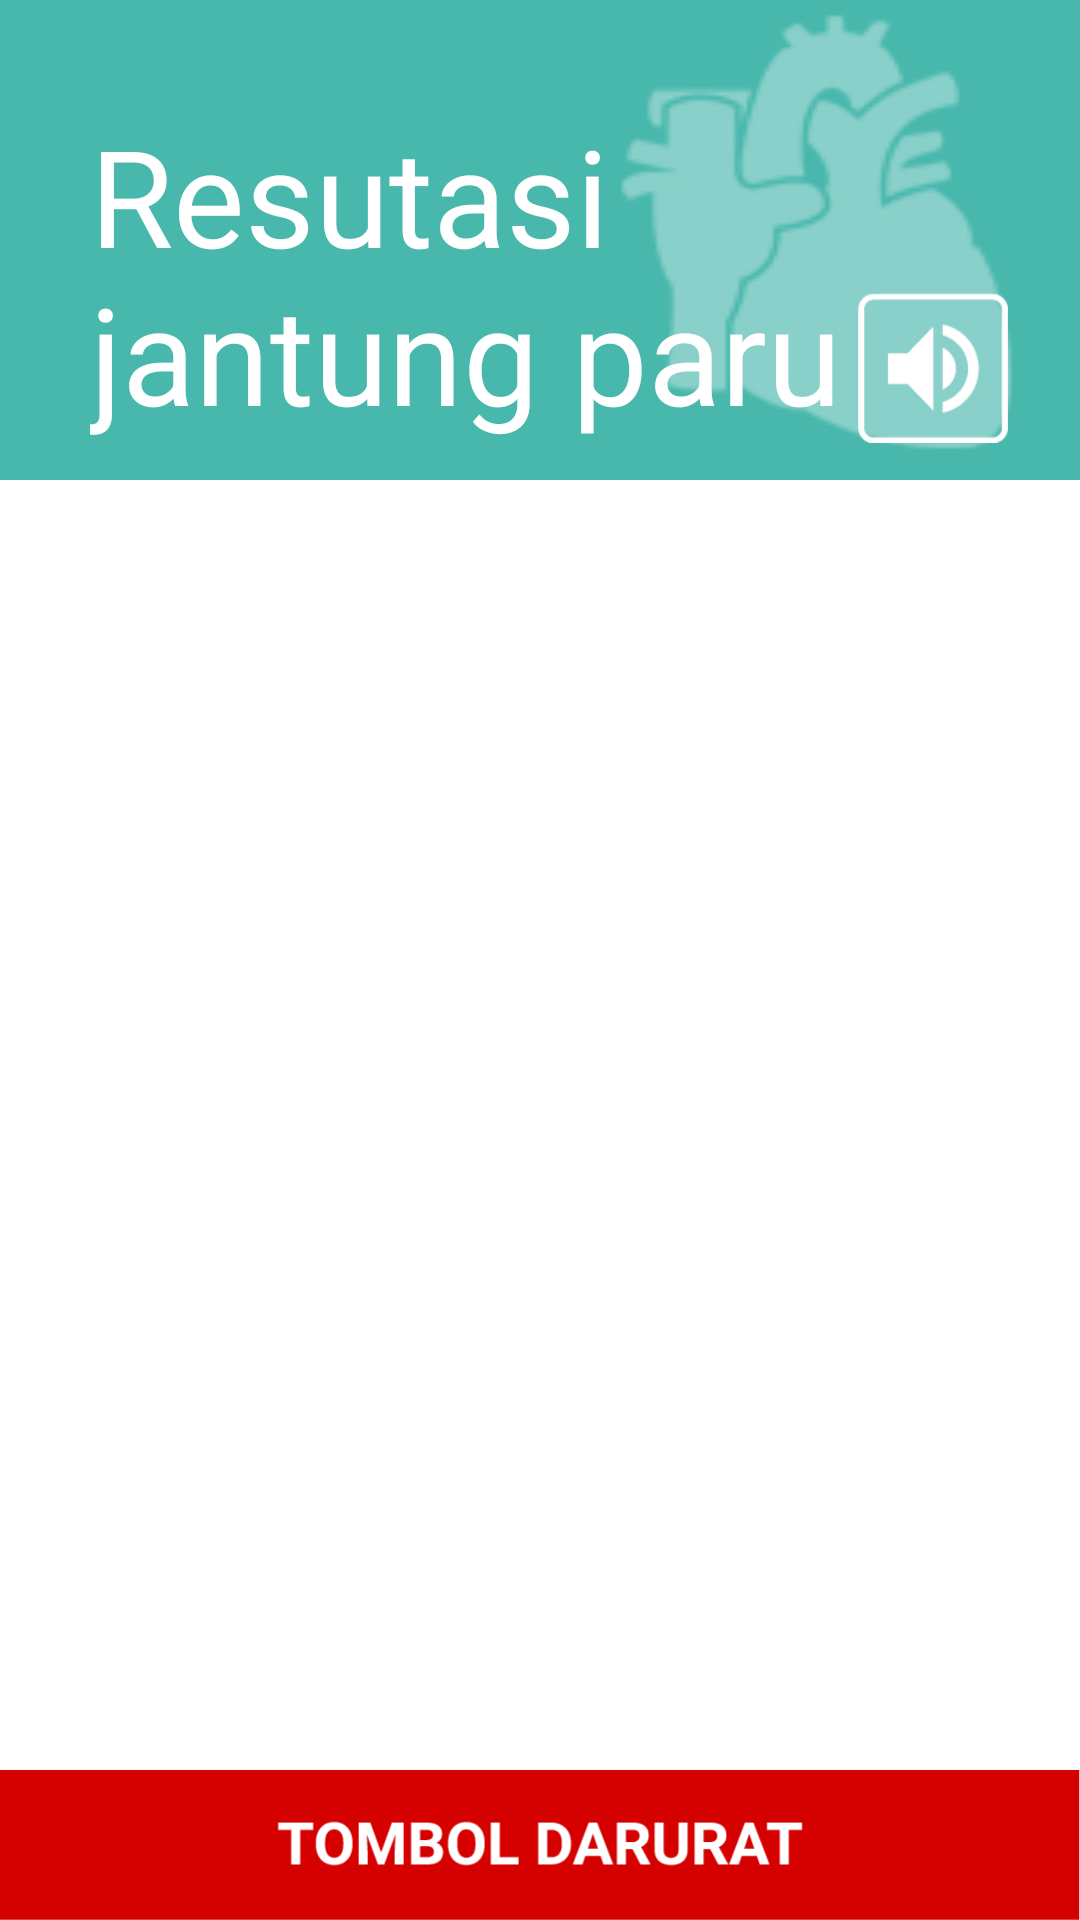

Point at icon controls on the screen. Image size 1080×1920, points as point (x, y).
audio on: point (933, 368)
